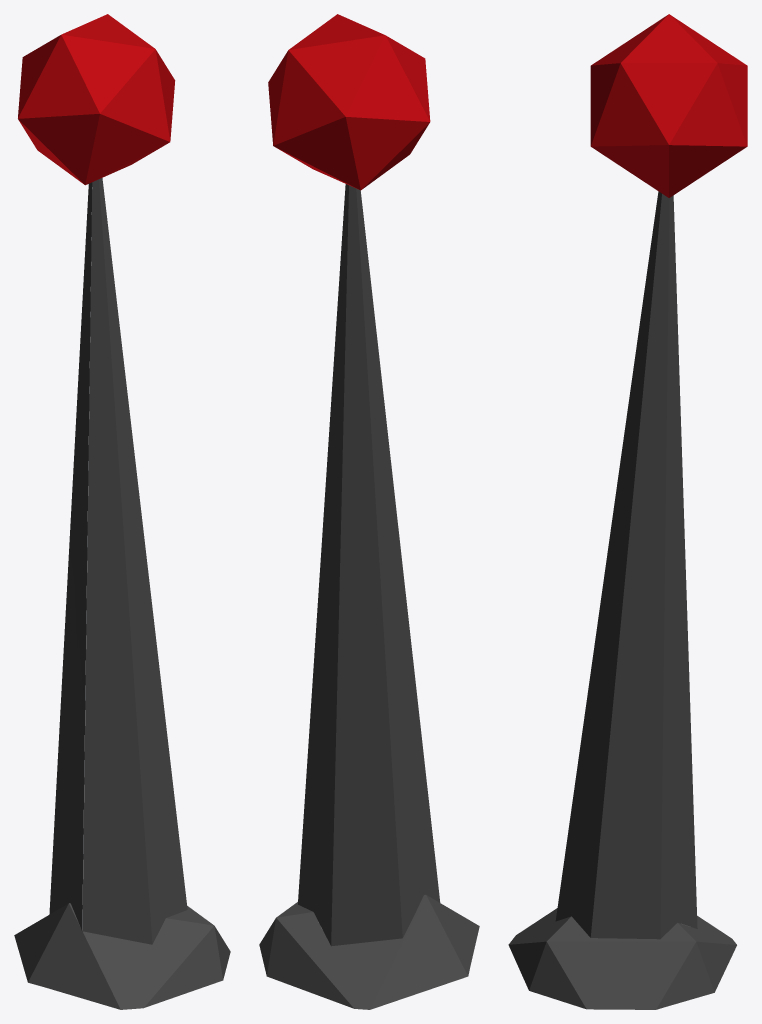
Rendered from ControllerAntena.fbx.
The picture shows the model from 3 angles, left to right: view 1: azimuth 30°, elevation 25°; view 2: azimuth 150°, elevation 25°; view 3: azimuth 270°, elevation 25°; orthographic projection. The views are drawn at different scales.
Visible parts, largest first — view 1: Remote; view 2: Remote; view 3: Remote.
Boxes of the visible parts, left/top/right/bottom form: Remote: left=14, top=14, right=230, bottom=1009; Remote: left=259, top=14, right=479, bottom=1009; Remote: left=508, top=14, right=747, bottom=1009.
Bounding box in the file's own units: 1.53 × 7.23 × 1.68.
